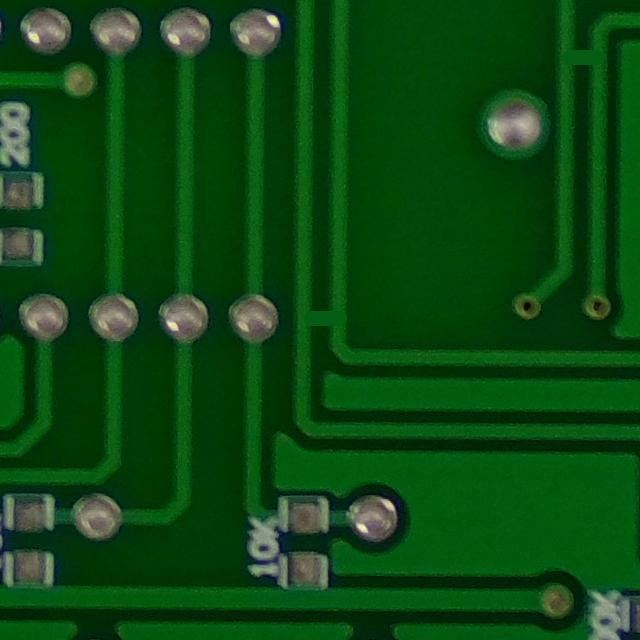short: (288, 294, 352, 347)
